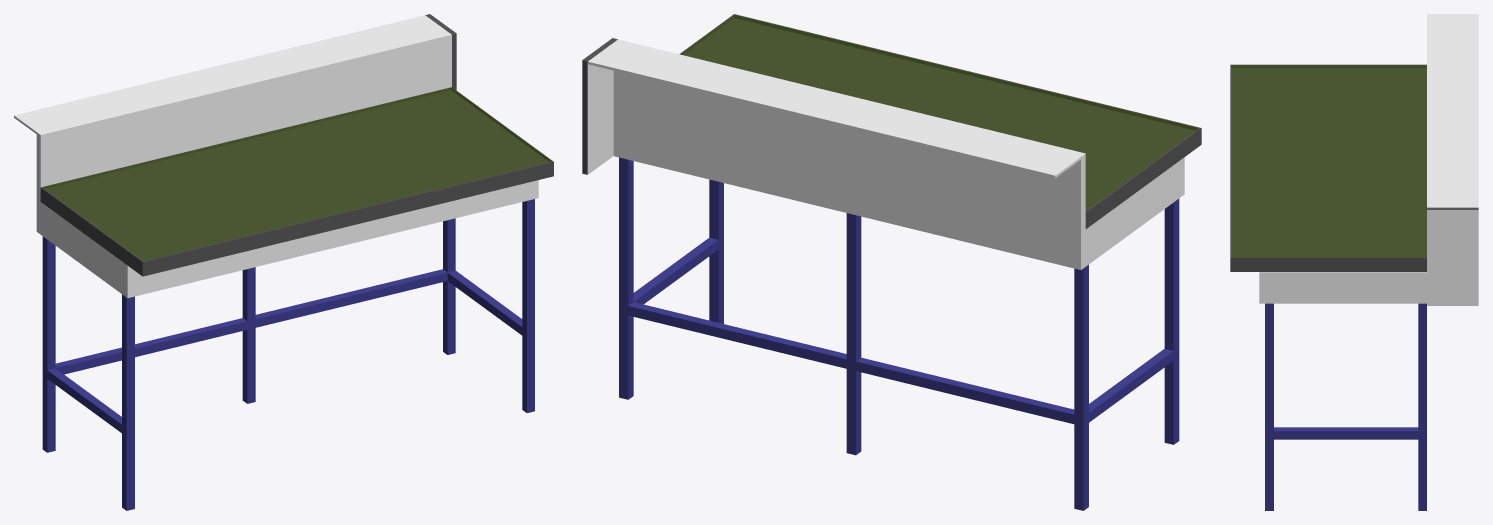
The model's file is table.fbx.
3 renders of one model, left to right at view 1: azimuth 30°, elevation 25°; view 2: azimuth 150°, elevation 25°; view 3: azimuth 270°, elevation 25°, orthographic. The views are drawn at different scales.
Parts seen in each view (by area): view 1: Group_002, Group_001; view 2: Group_001, Group_002; view 3: Group_002, Group_001.
Part boxes in pixels (x1,y1,x2,y2): Group_002: (42, 87, 551, 510); Group_001: (14, 14, 553, 298); Group_001: (582, 14, 1201, 269); Group_002: (619, 15, 1198, 510); Group_002: (1231, 65, 1426, 510); Group_001: (1230, 14, 1478, 305).
Bounding box in the file's own units: 60.16 × 43.5 × 32.24.
